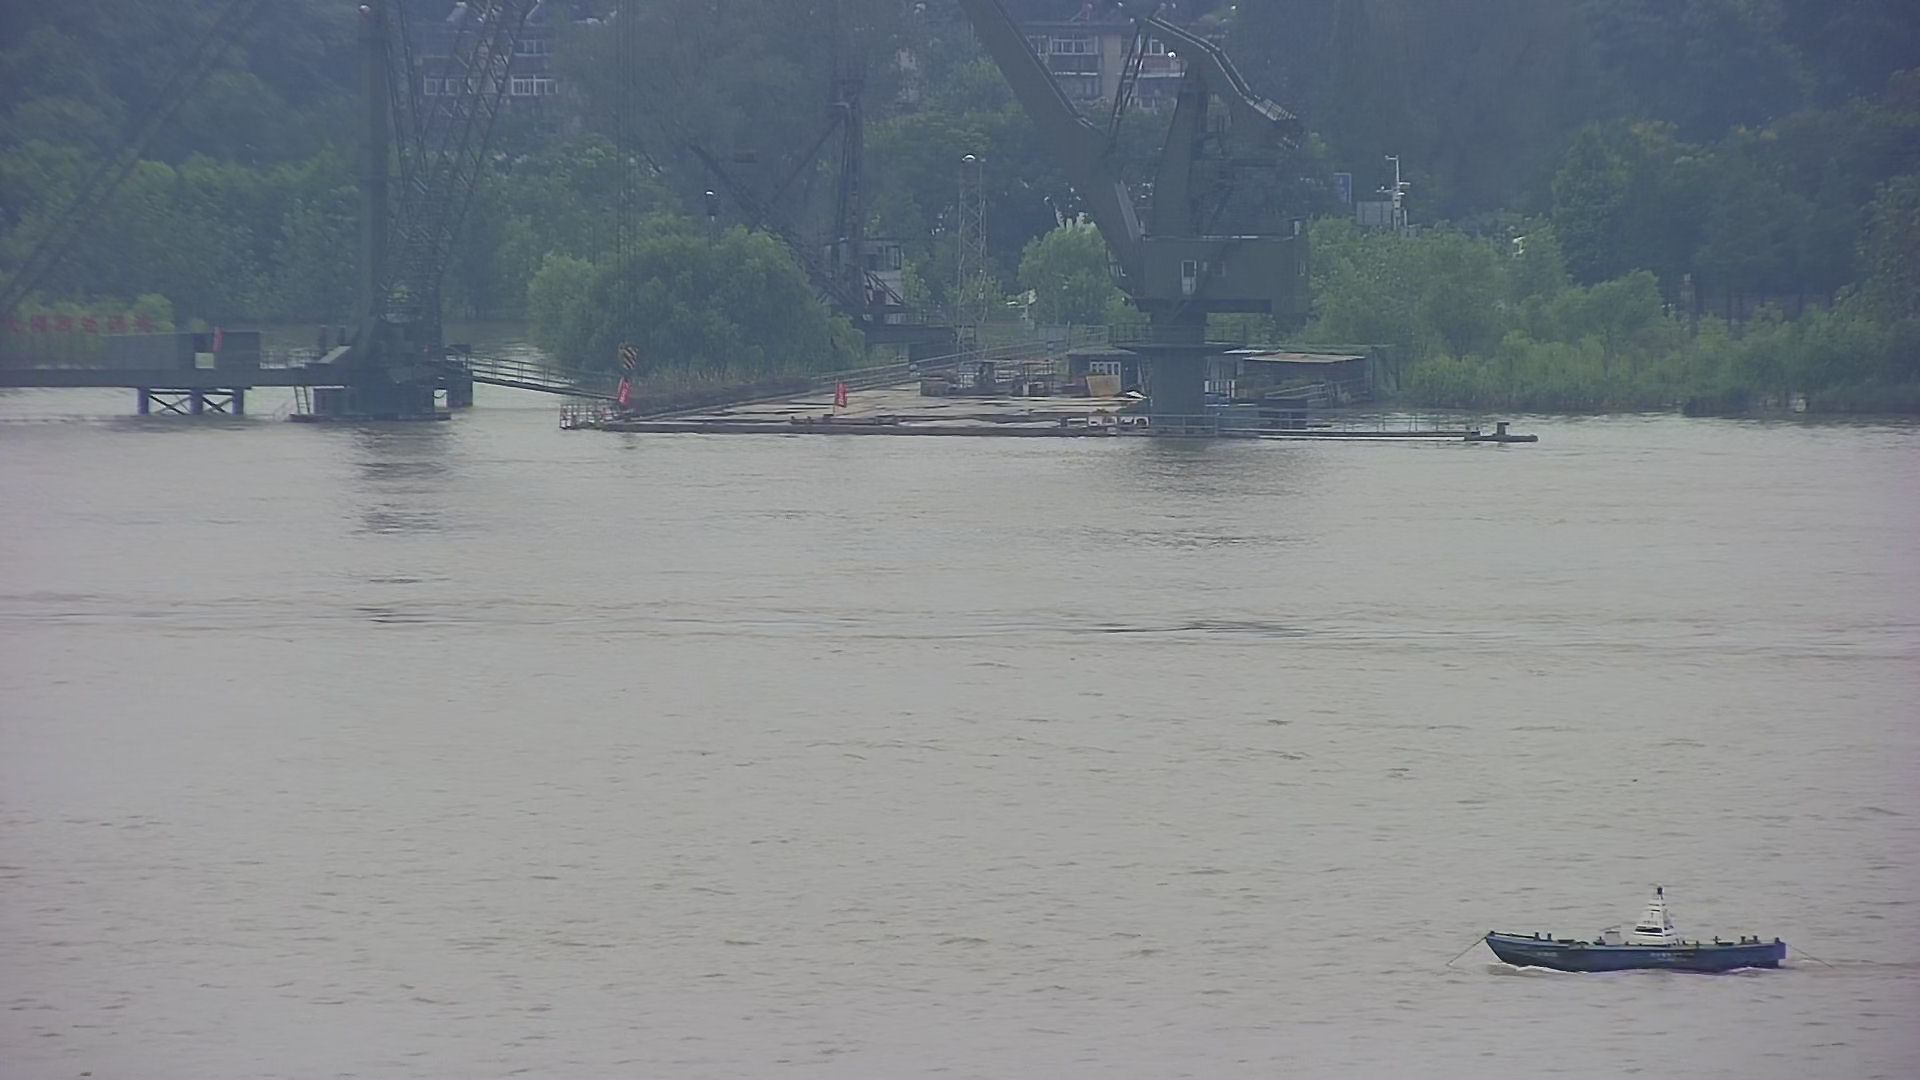boat: (1455, 865, 1803, 992)
platform: (1, 1, 522, 434)
